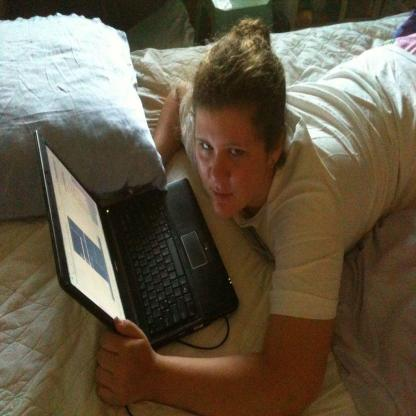board: (34, 129, 239, 350)
